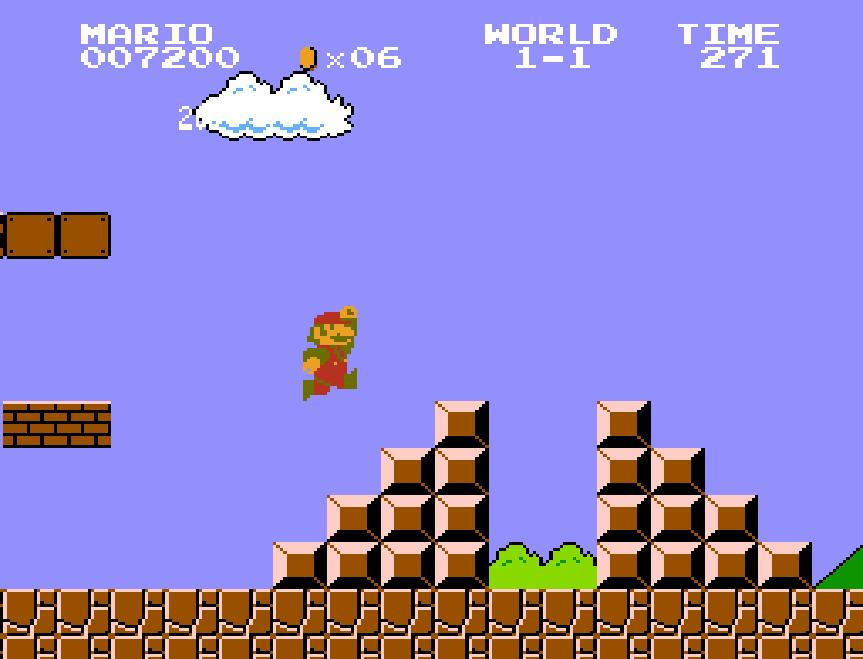big_mario: (301, 304, 359, 402)
